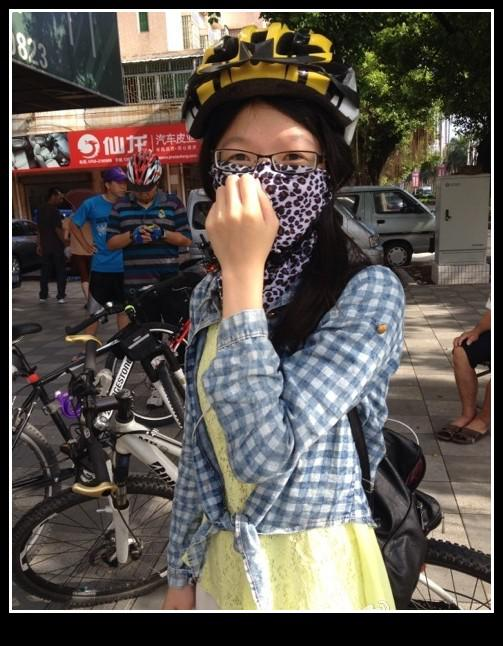NONE: (135, 184, 156, 205), (111, 179, 127, 198)
OK: (208, 132, 319, 243)
